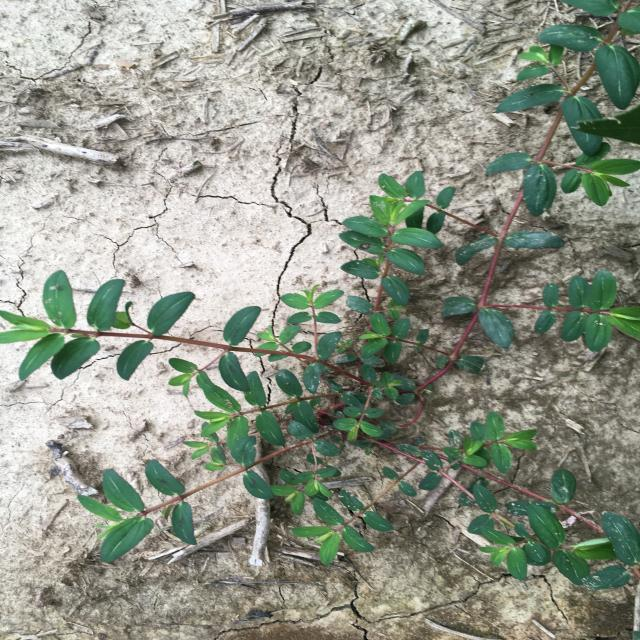SpottedSpurge: (1, 0, 640, 590)
